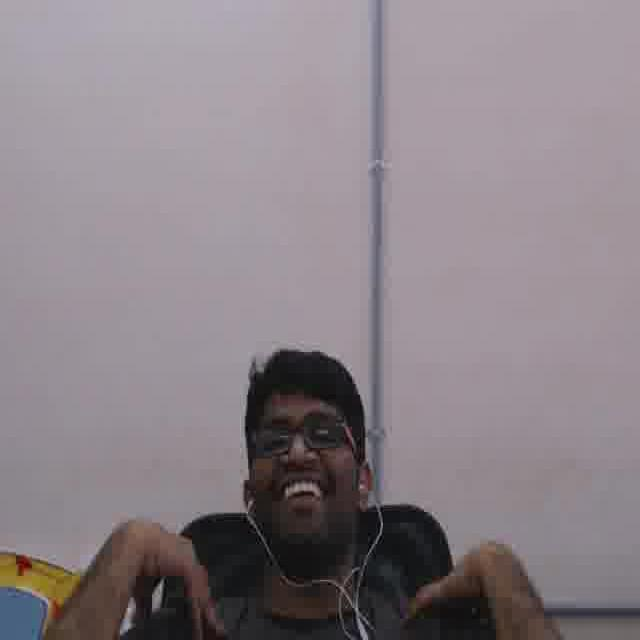Engaged: (245, 379, 356, 552)
